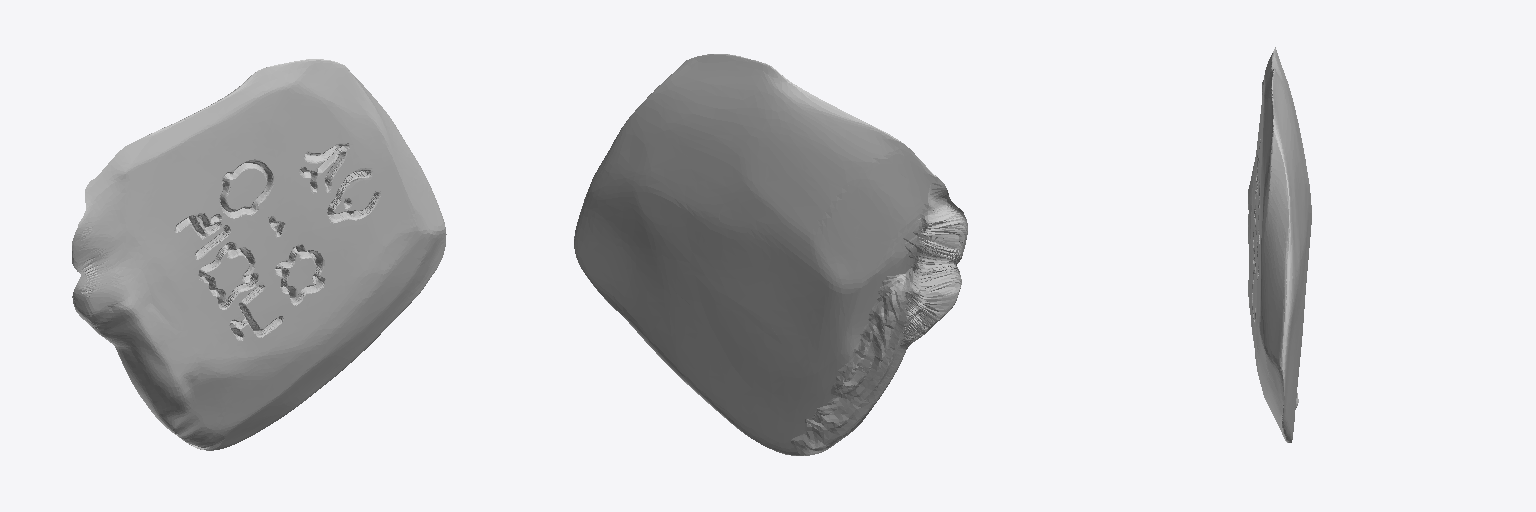
The model's file is Tabula5Oct.obj.
3 renders of one model, left to right at view 1: azimuth 30°, elevation 25°; view 2: azimuth 150°, elevation 25°; view 3: azimuth 270°, elevation 25°, orthographic.
Bounding box in the file's own units: 16.64 × 15.67 × 2.41.